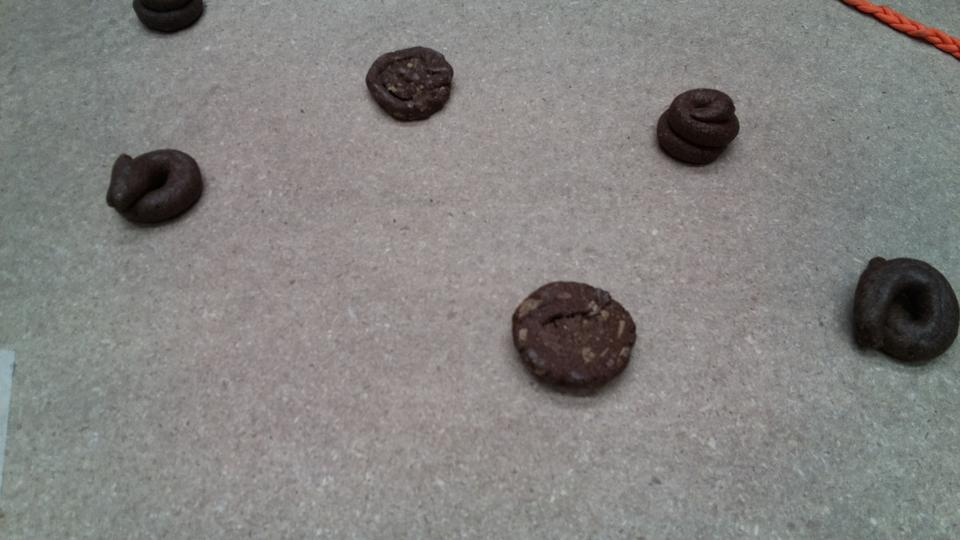poop: (512, 281, 635, 392), (857, 257, 960, 365), (112, 152, 204, 227), (366, 46, 455, 122), (657, 88, 739, 167), (133, 2, 203, 33)
rope: (882, 11, 919, 37), (913, 27, 953, 48), (846, 1, 882, 18), (946, 40, 960, 56)
